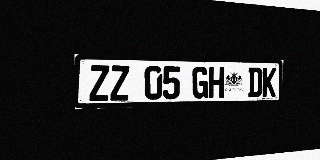0: (144, 66, 162, 100)
5: (163, 66, 180, 99)
D: (248, 67, 262, 97)
G: (192, 66, 208, 99)
H: (208, 67, 224, 98)
K: (262, 68, 276, 97)
Z: (89, 65, 109, 101), (110, 65, 129, 101)
